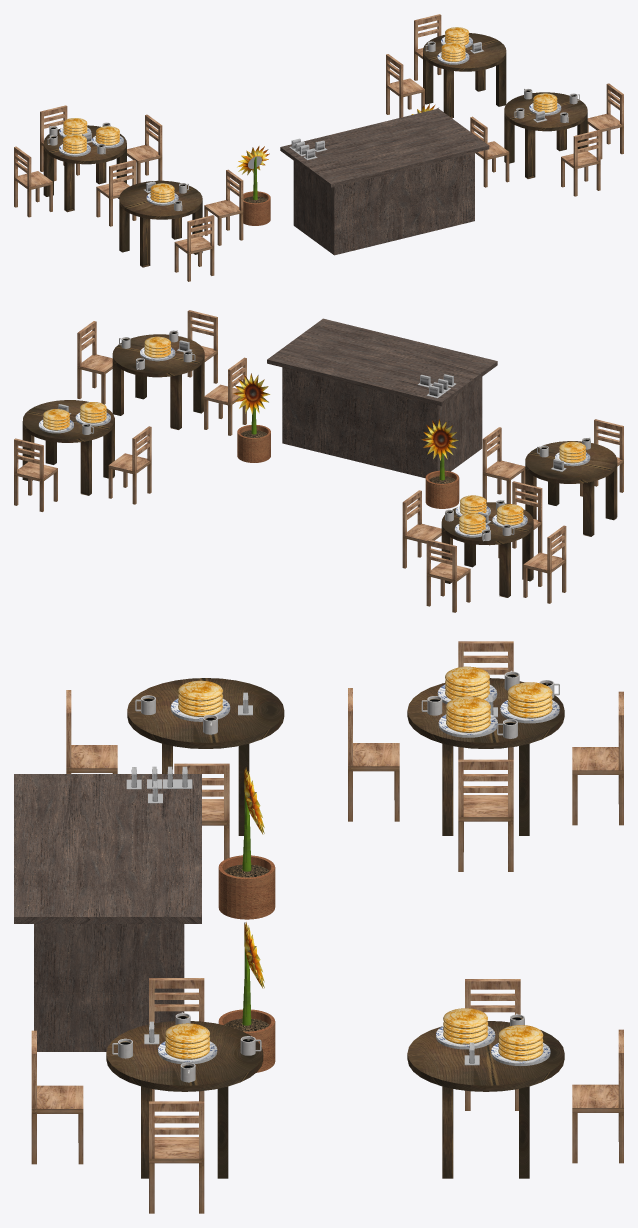
Rendered from resin.fbx.
The picture shows the model from 3 angles, top to bottom: view 1: azimuth 30°, elevation 25°; view 2: azimuth 150°, elevation 25°; view 3: azimuth 270°, elevation 25°; orthographic projection. The views are drawn at different scales.
Visible parts, largest first — view 1: Cube.031, Circle.006, Circle.008, Circle.007, Circle.005, Cylinder.033, Cube.005, Cube.004, Cube.022, Cube.023, Cube.026, Cube.030 (+12 smaller); view 2: Cube.031, Circle.007, Circle.006, Circle.008, Circle.005, Cylinder.033, Cylinder.034, Cube.007, Cube.006, Cube.023, Cube.026, Cube.022 (+13 smaller); view 3: Cube.031, Circle.007, Circle.008, Circle.006, Circle.005, Cylinder.033, Cube.030, Cube.025, Cylinder.034, Cube.005, Cube.006, Cube.007 (+13 smaller).
Boxes of the visible parts, <box> form: Cube.031: <box>280,108,489,255</box>; Circle.006: <box>119,180,202,267</box>; Circle.008: <box>423,33,506,118</box>; Circle.007: <box>504,92,587,178</box>; Circle.005: <box>43,125,126,212</box>; Cylinder.033: <box>237,146,270,225</box>; Cube.005: <box>561,130,600,196</box>; Cube.004: <box>174,215,214,281</box>; Cube.022: <box>204,169,243,245</box>; Cube.023: <box>14,146,52,217</box>; Cube.026: <box>386,54,424,117</box>; Cube.030: <box>587,83,623,159</box>; Cube.031: <box>267,318,497,478</box>; Circle.007: <box>112,334,204,429</box>; Circle.006: <box>525,441,617,536</box>; Circle.008: <box>22,400,114,495</box>; Circle.005: <box>441,502,533,597</box>; Cylinder.033: <box>421,419,459,508</box>; Cylinder.034: <box>233,373,270,462</box>; Cube.007: <box>426,539,470,612</box>; Cube.006: <box>14,438,57,511</box>; Cube.023: <box>523,525,566,603</box>; Cube.026: <box>108,426,151,504</box>; Cube.022: <box>482,427,525,503</box>; Cube.031: <box>14,774,201,1051</box>; Circle.007: <box>106,1021,263,1178</box>; Circle.008: <box>407,1021,564,1178</box>; Circle.006: <box>127,678,284,835</box>; Circle.005: <box>407,678,564,835</box>; Cylinder.033: <box>218,767,275,919</box>; Cube.030: <box>149,1101,204,1213</box>; Cube.025: <box>458,759,513,871</box>; Cylinder.034: <box>218,922,275,1072</box>; Cube.005: <box>31,1030,83,1164</box>; Cube.006: <box>572,1029,623,1163</box>; Cube.007: <box>572,691,623,825</box>.
Bounding box in the file's own units: 1455 × 234 × 812.
